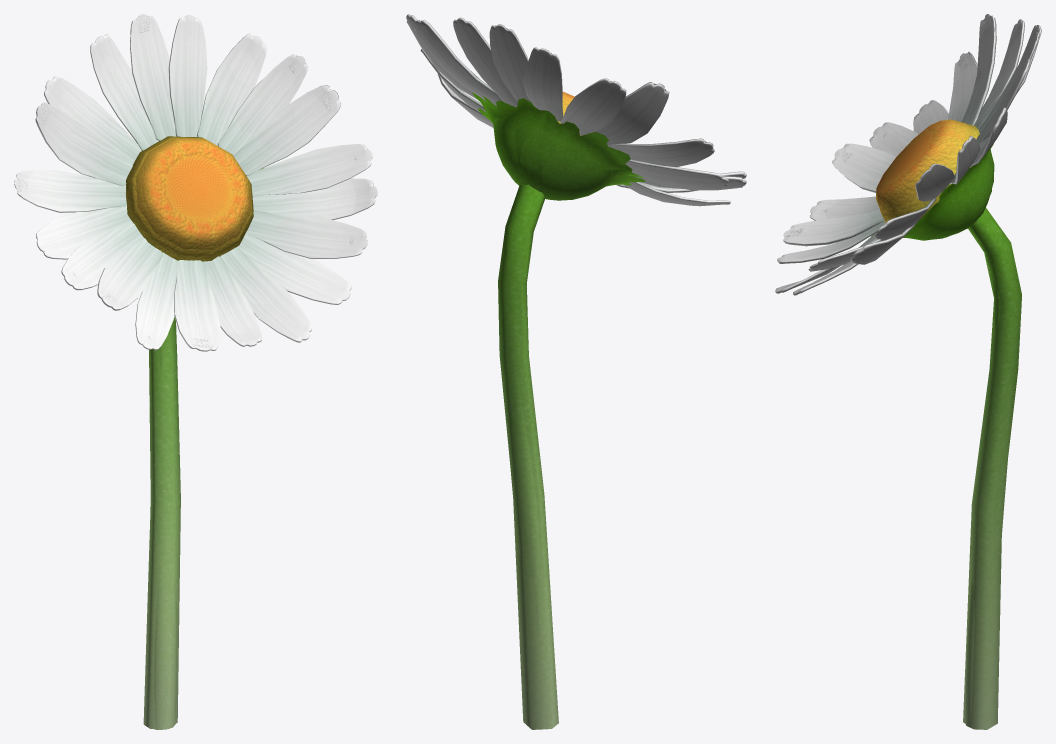
File: POI_Flower_l_Lod0.fbx
3 views of the same model, side by side, from view 1: azimuth 30°, elevation 25°; view 2: azimuth 150°, elevation 25°; view 3: azimuth 270°, elevation 25° (orthographic). The views are drawn at different scales.
Parts seen in each view (by area): view 1: mesh_Flower_l_petals, mesh_Flower_l_Lod1_3, mesh_Flower_l_Lod1_4, mesh_Flower_l_Lod1_1, mesh_Flower_l_stem, mesh_Flower_l_center; view 2: mesh_Flower_l_petals, mesh_Flower_l_Lod1_1, mesh_Flower_l_calyx, mesh_Flower_l_stem, mesh_Flower_l_Lod1_2; view 3: mesh_Flower_l_petals, mesh_Flower_l_Lod1_1, mesh_Flower_l_Lod1_3, mesh_Flower_l_Lod1_4, mesh_Flower_l_stem, mesh_Flower_l_calyx, mesh_Flower_l_Lod1_2, mesh_Flower_l_center.
Boxes of the visible parts, x1,y1,x2,y2 form: mesh_Flower_l_petals: [14, 14, 377, 351]; mesh_Flower_l_Lod1_3: [14, 15, 375, 349]; mesh_Flower_l_Lod1_4: [126, 136, 253, 261]; mesh_Flower_l_Lod1_1: [143, 316, 180, 728]; mesh_Flower_l_stem: [150, 323, 177, 729]; mesh_Flower_l_center: [132, 137, 252, 255]; mesh_Flower_l_petals: [406, 14, 746, 206]; mesh_Flower_l_Lod1_1: [498, 184, 558, 729]; mesh_Flower_l_calyx: [472, 92, 645, 200]; mesh_Flower_l_stem: [500, 189, 544, 729]; mesh_Flower_l_Lod1_2: [474, 94, 643, 198]; mesh_Flower_l_petals: [775, 14, 1041, 295]; mesh_Flower_l_Lod1_1: [963, 208, 1021, 729]; mesh_Flower_l_Lod1_3: [779, 15, 1036, 284]; mesh_Flower_l_Lod1_4: [876, 119, 980, 222]; mesh_Flower_l_stem: [965, 219, 1018, 727]; mesh_Flower_l_calyx: [903, 143, 994, 240]; mesh_Flower_l_Lod1_2: [871, 150, 992, 240]; mesh_Flower_l_center: [880, 122, 969, 221].
Size of the model in its own units: 9.94 by 20.56 by 7.15.
